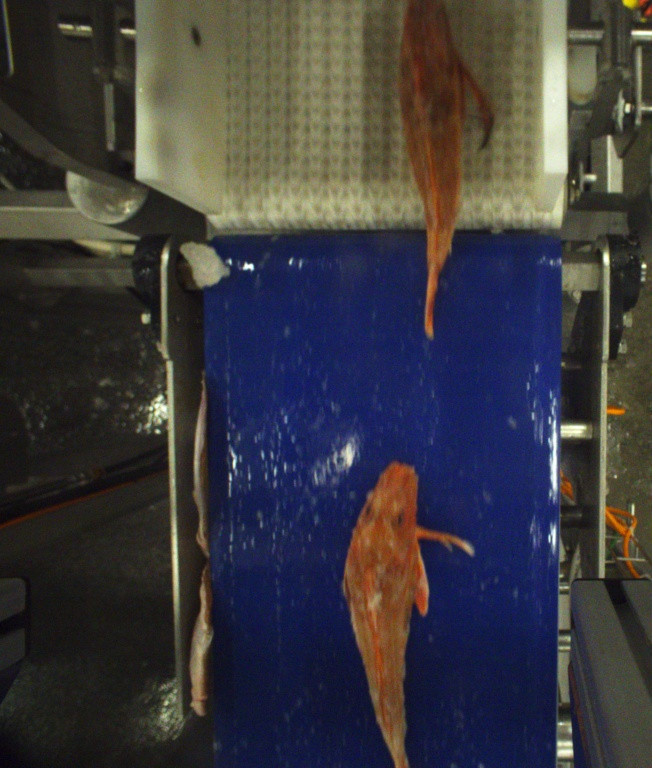GUU: (346, 462, 474, 768)
